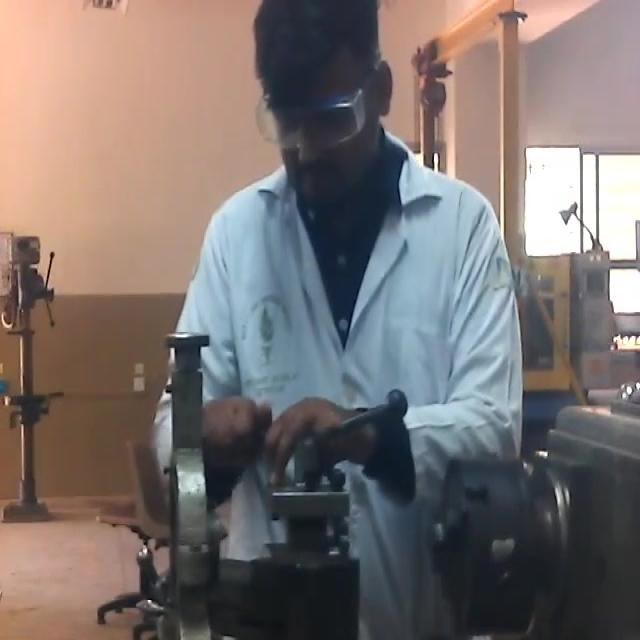googles: (252, 97, 368, 153)
labcoat: (156, 130, 524, 640)
